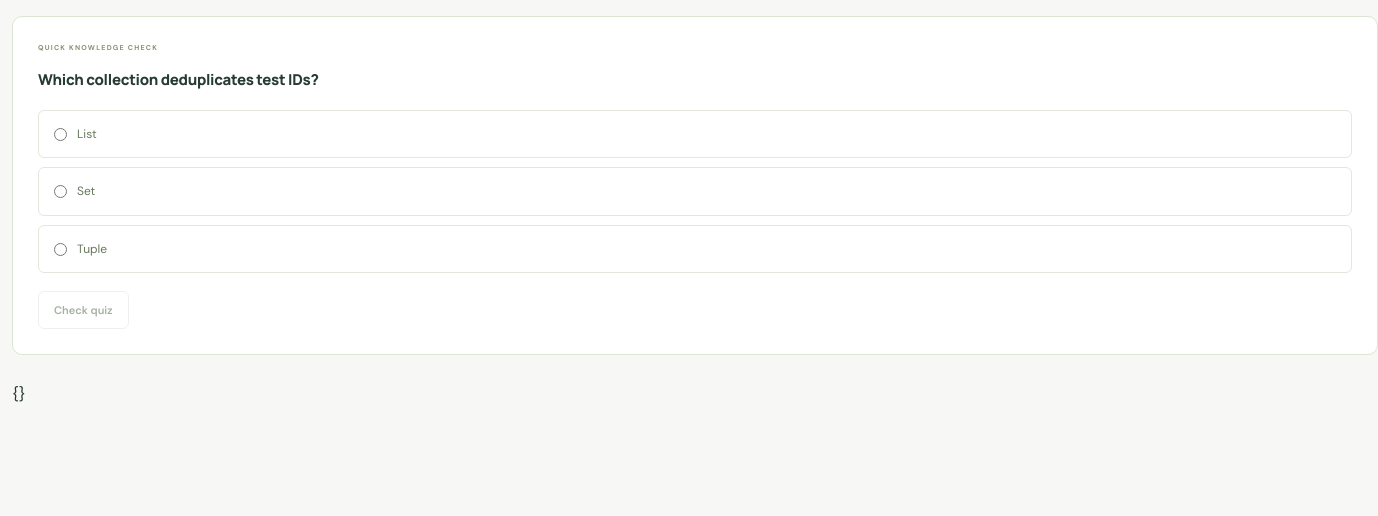
Scenario: scores quiz answers independently of reading
The width and height of the screenshot is (1378, 516).
Click the radio button labelled "Set" at (60, 192), box [54,186,67,198]
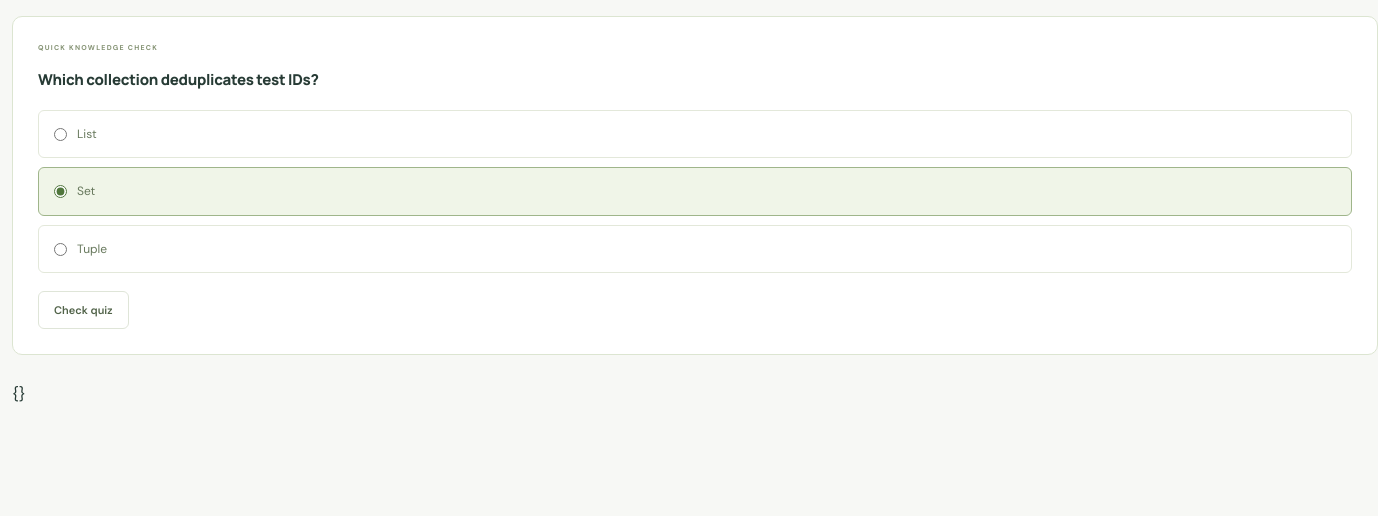
Click the button "Check quiz" at (83, 310), box [38,291,128,329]
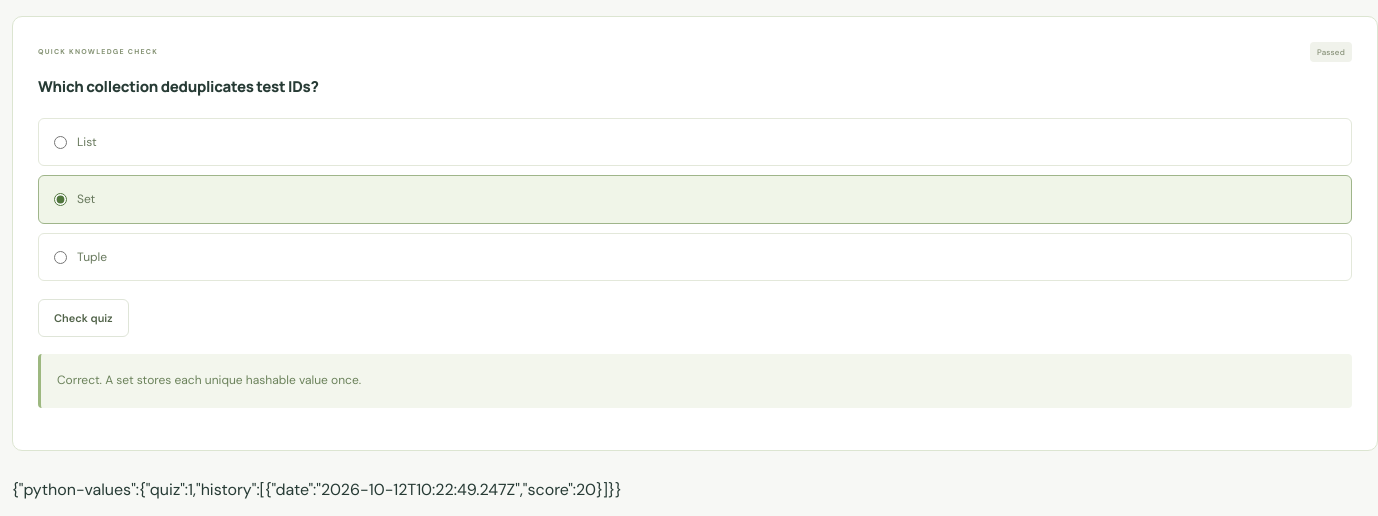
expect the text with test id "state" does not show "\"complete\":true": met, box [12,479,622,500]
expect the text with test id "state" shows "\"quiz\":1": met, box [12,479,622,500]
